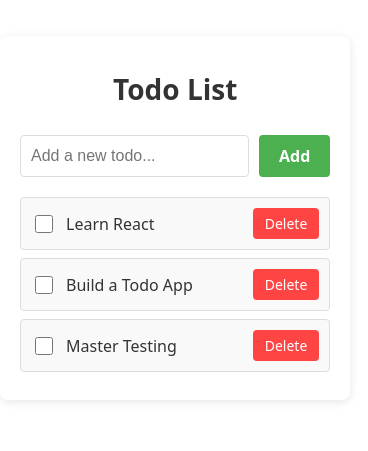
Scenario: TodoList Component › Integration Tests › add, toggle, and delete work together seamlessly
Type "Integration test todo" into the field with test id "todo-input" at (134, 156), box [20,135,249,177]
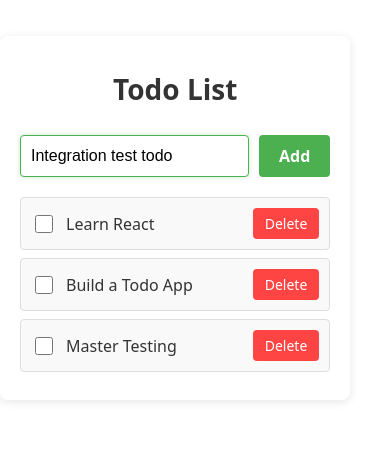
Click the button with test id "add-button" at (295, 156), box [259,135,330,177]
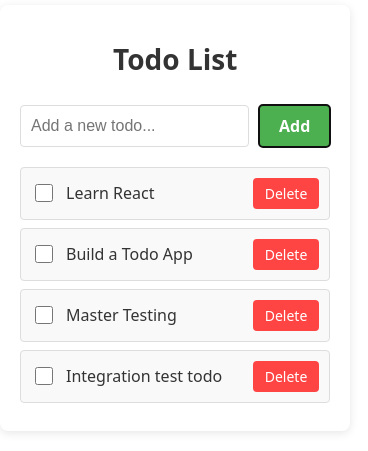
expect the text "Integration test todo" is shown: met, box [66,364,243,388]
// Toggle it
Click the checkbox named "mark \"integration test todo\"" at (44, 376), box [35,367,53,385]
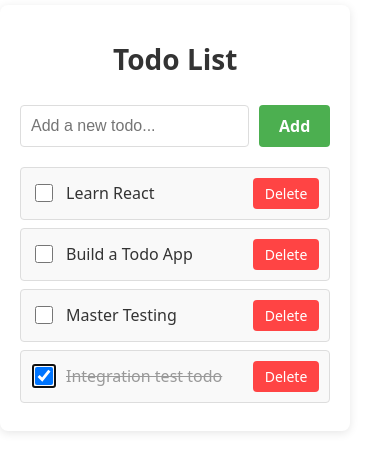
expect the checkbox named "mark \"integration test todo\"" is checked: met, box [35,367,53,385]
// Delete it
Click the button named "delete \"integration test todo\"" at (286, 376), box [253,361,319,392]
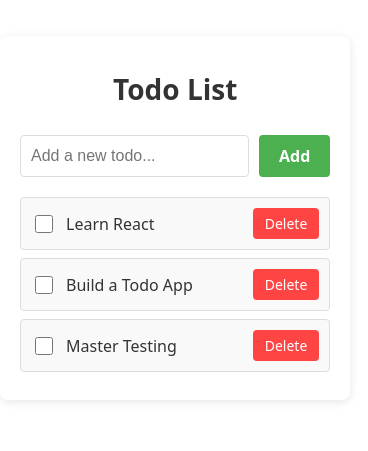
expect the text "Integration test todo" is gone: met
